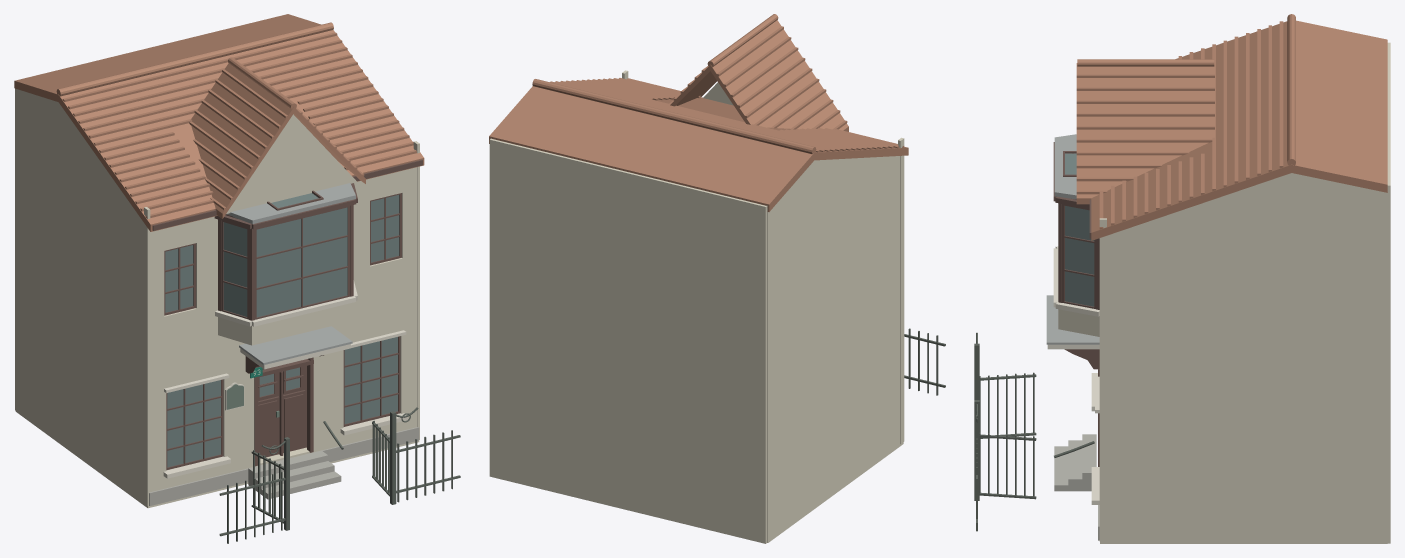
File: huangpu-feng-zikai-riyue-lou-raw.glb
3 renders of one model, left to right at view 1: azimuth 30°, elevation 25°; view 2: azimuth 150°, elevation 25°; view 3: azimuth 270°, elevation 25°, orthographic. The views are drawn at different scales.
Visible parts, largest first — view 1: 长乐邨93号丰子恺旧居（日月楼南庭院立面）; view 2: 长乐邨93号丰子恺旧居（日月楼南庭院立面）; view 3: 长乐邨93号丰子恺旧居（日月楼南庭院立面）.
Part boxes in pixels (x1=…): 长乐邨93号丰子恺旧居（日月楼南庭院立面）: x1=14, y1=14, x2=460, y2=543; 长乐邨93号丰子恺旧居（日月楼南庭院立面）: x1=489, y1=14, x2=945, y2=543; 长乐邨93号丰子恺旧居（日月楼南庭院立面）: x1=974, y1=14, x2=1390, y2=543.
Bounding box in the file's own units: 6.09 × 8.07 × 7.38.
